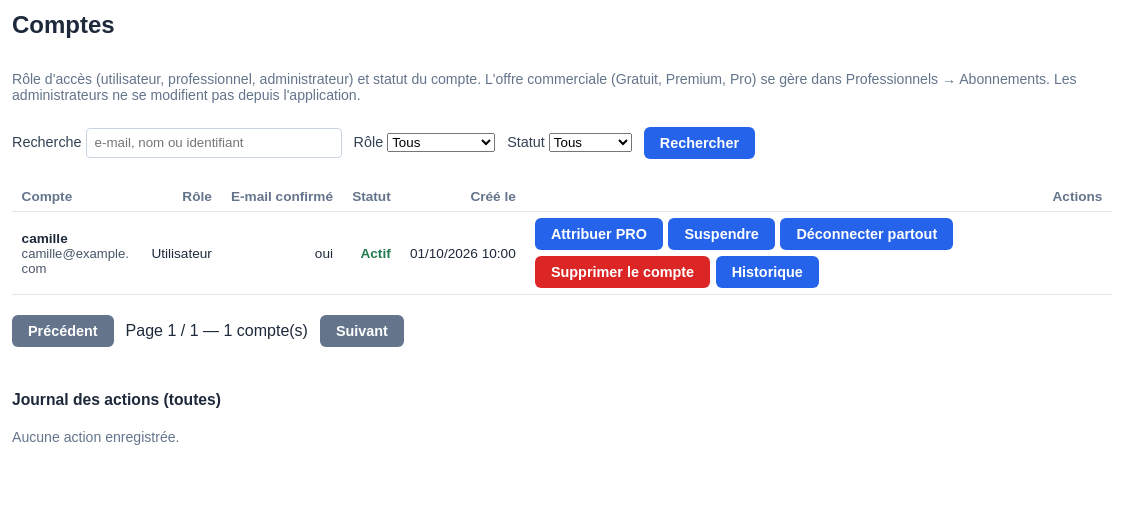
AdminAccountsSection › affiche le refus de l'API tel qu'elle l'explique
Click the button "Attribuer PRO" at {"x": 599, "y": 234}, box [535,218,663,250]
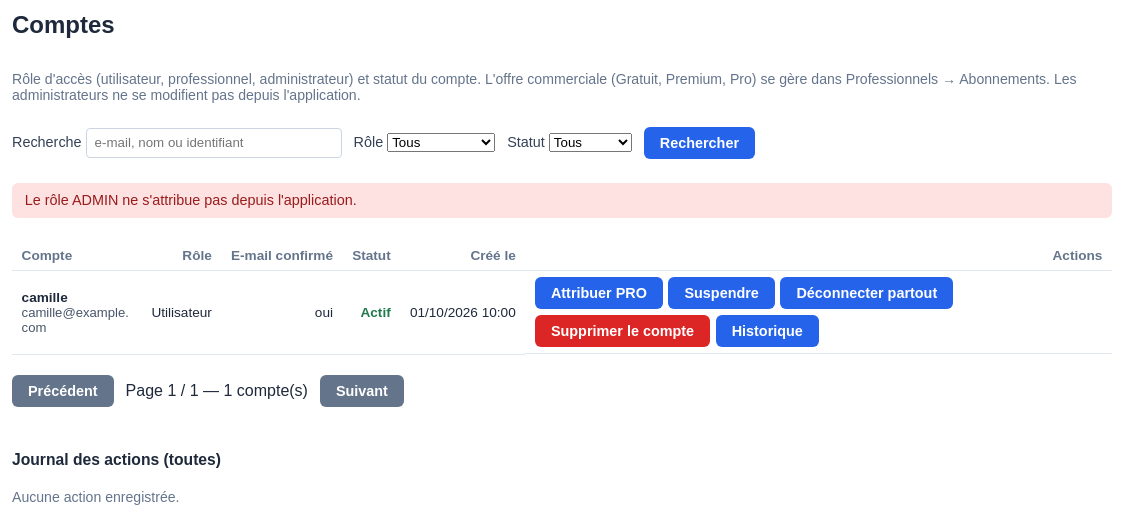
Expected: the message shows "Le rôle ADMIN ne s'attribue pas", [25,192,357,208]
